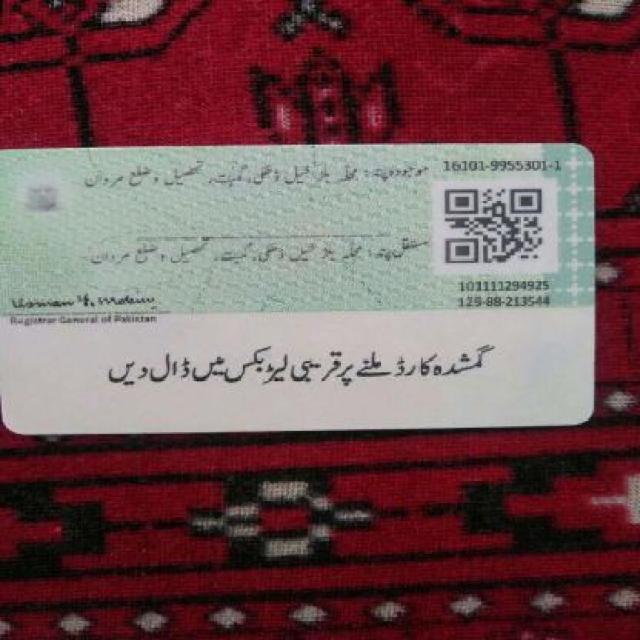Back: (4, 142, 602, 432)
